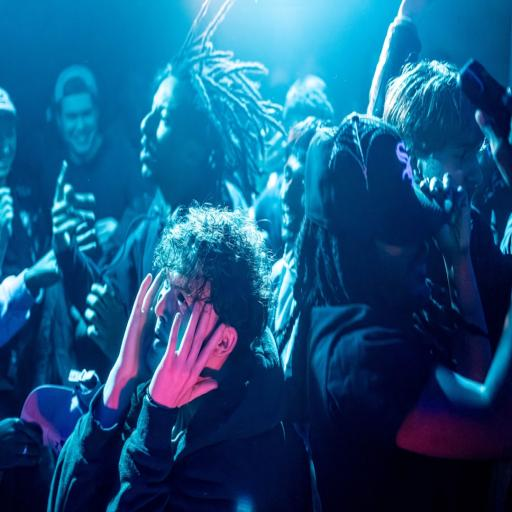face: (140, 75, 197, 204), (147, 276, 210, 371), (376, 241, 429, 315), (419, 136, 482, 198), (59, 92, 99, 161), (280, 153, 305, 241), (0, 115, 17, 182)
